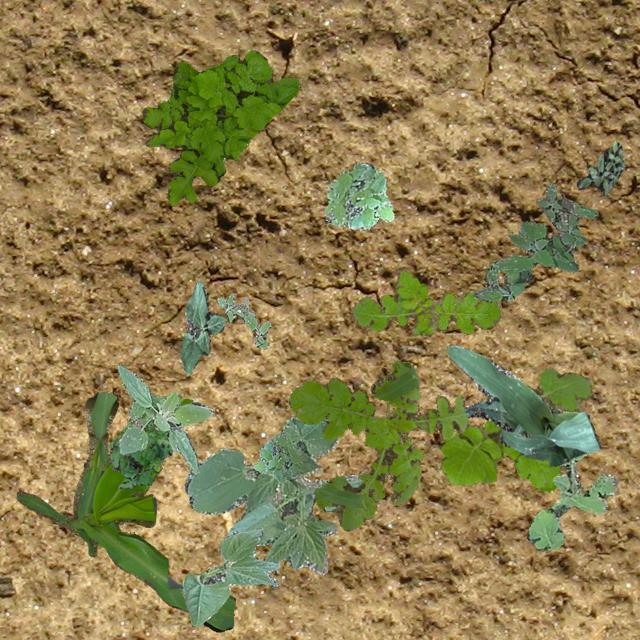crop: (15, 392, 234, 630), (184, 414, 364, 574), (446, 344, 600, 466), (182, 526, 278, 626), (180, 280, 226, 374)
weed: (287, 360, 468, 530), (142, 48, 300, 205), (440, 366, 590, 490), (472, 182, 596, 302), (116, 363, 212, 472), (350, 268, 500, 334), (526, 452, 616, 550), (322, 160, 392, 228), (108, 418, 170, 488), (217, 292, 270, 348), (576, 140, 624, 194), (252, 428, 300, 482)
